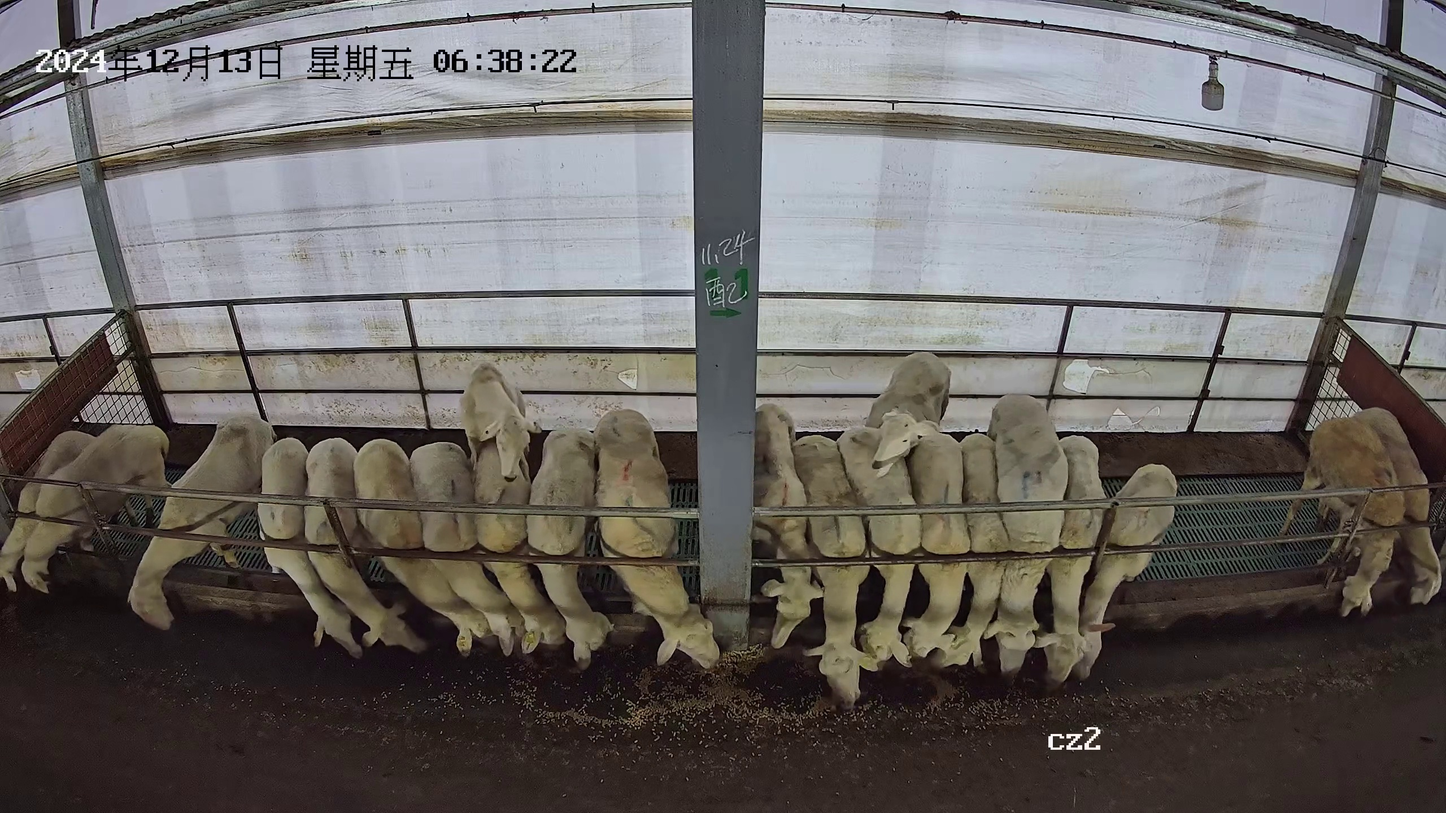Nmounting: (457, 359, 545, 644)
